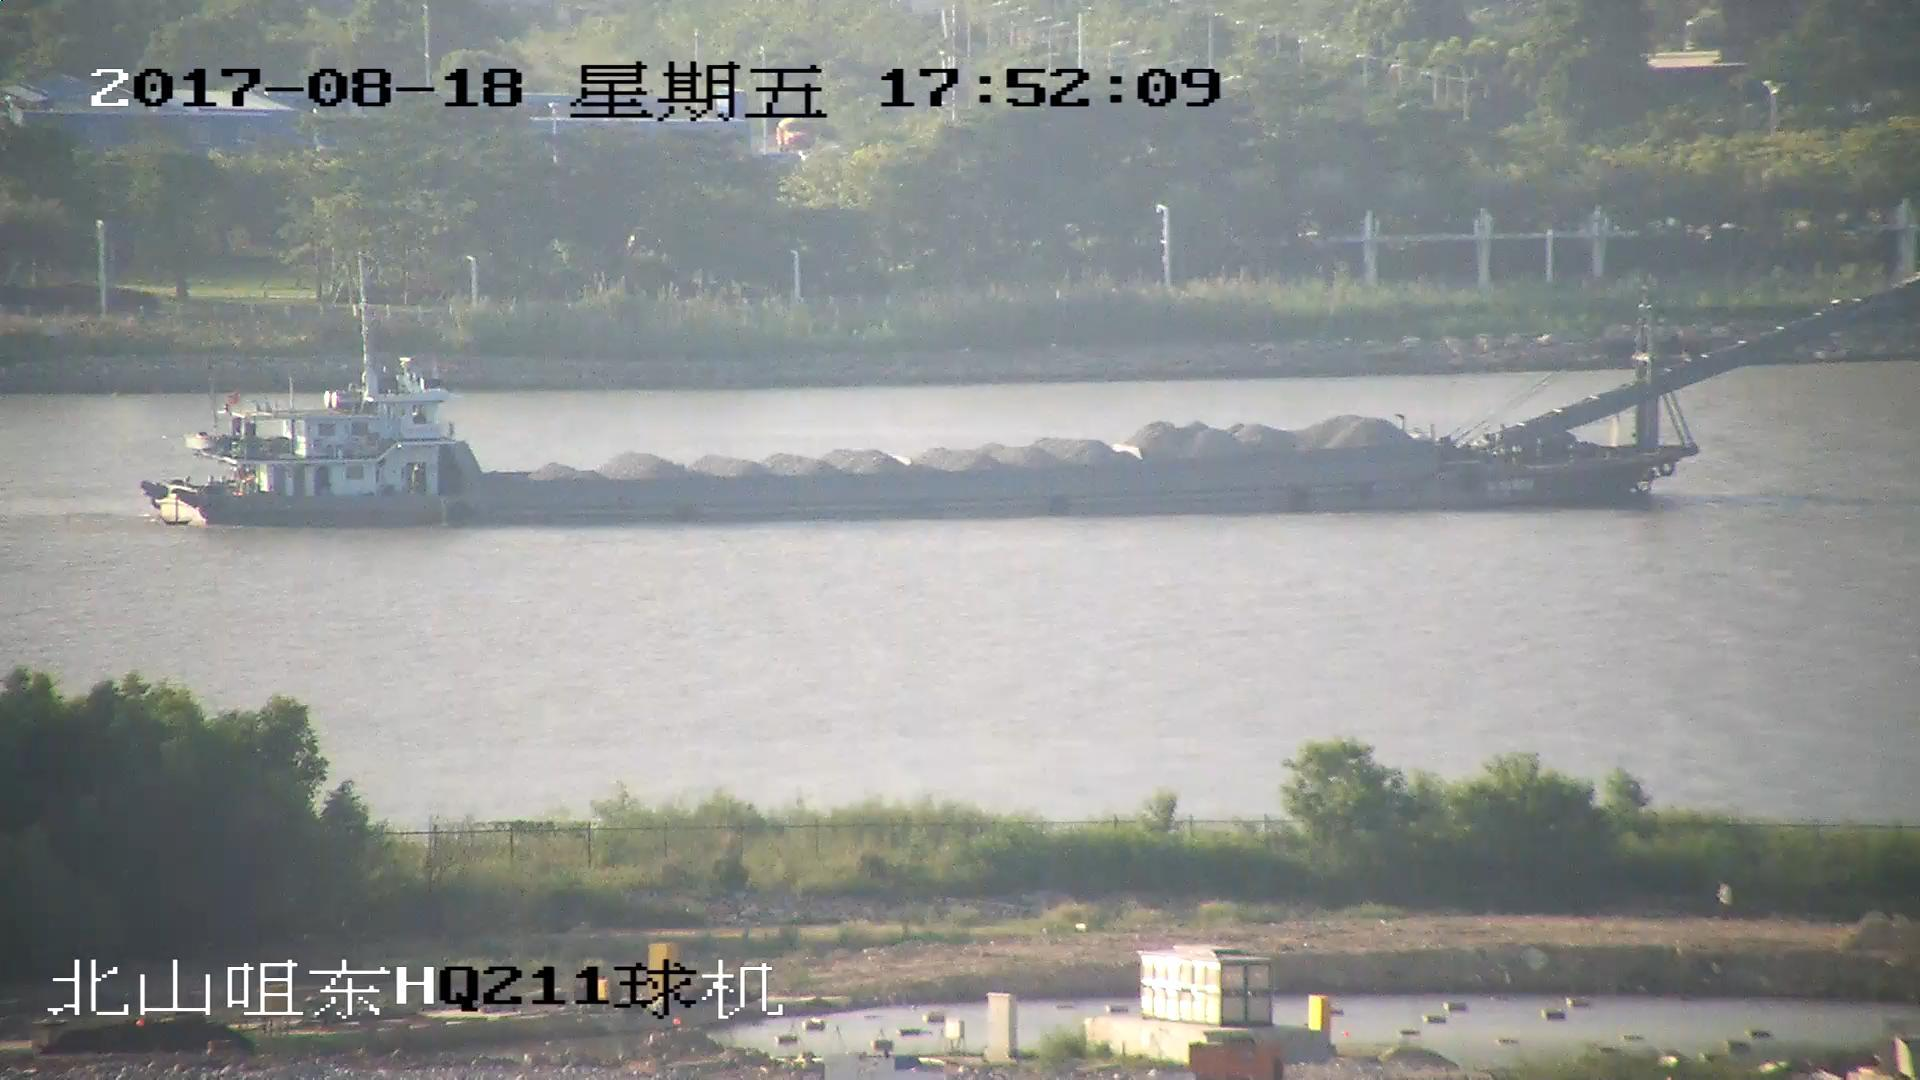Ship: (144, 278, 1920, 531)
